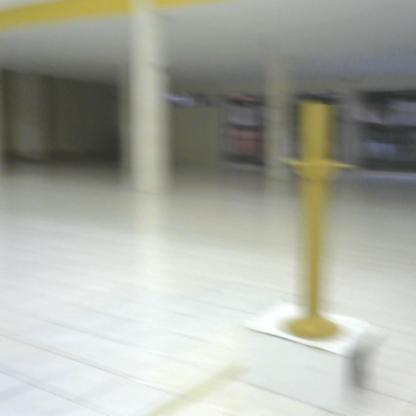pole: (278, 99, 358, 340)
